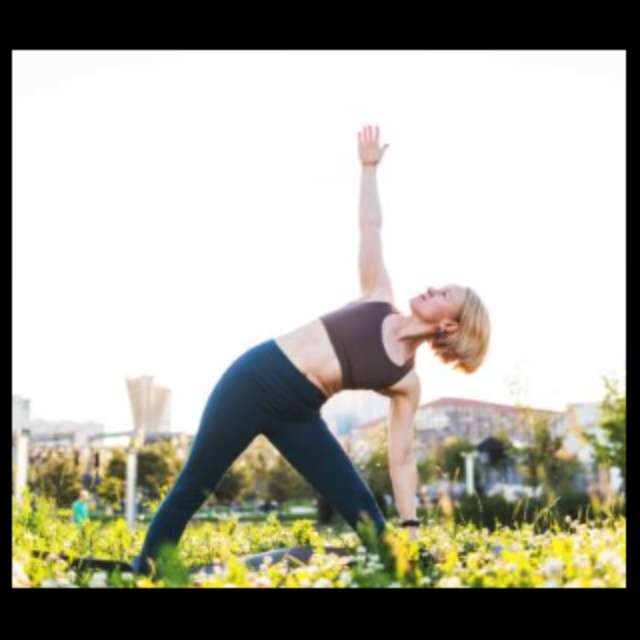Triangle_Pose: (125, 119, 495, 582)
